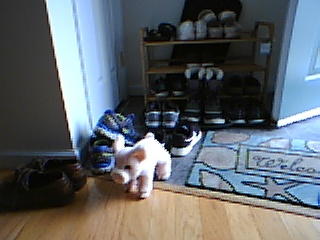piggy: (110, 132, 173, 200)
